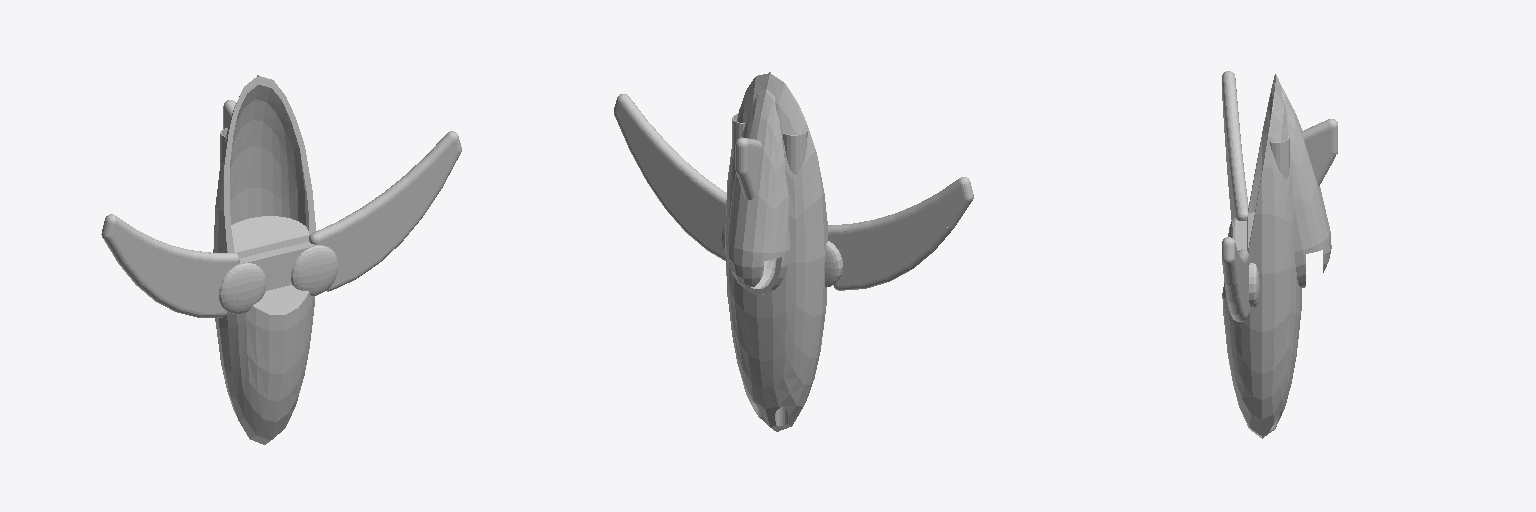
Rendered from 814_rotated.obj.
The picture shows the model from 3 angles: view 1: azimuth 30°, elevation 25°; view 2: azimuth 150°, elevation 25°; view 3: azimuth 270°, elevation 25°; orthographic projection.
Parts seen in each view (by area): view 1: 814; view 2: 814; view 3: 814.
Boxes of the visible parts, x1=… form: 814: x1=101, y1=75, x2=461, y2=444; 814: x1=614, y1=72, x2=973, y2=431; 814: x1=1222, y1=71, x2=1337, y2=438.
Bounding box in the file's own units: 29.94 × 29.17 × 8.43.